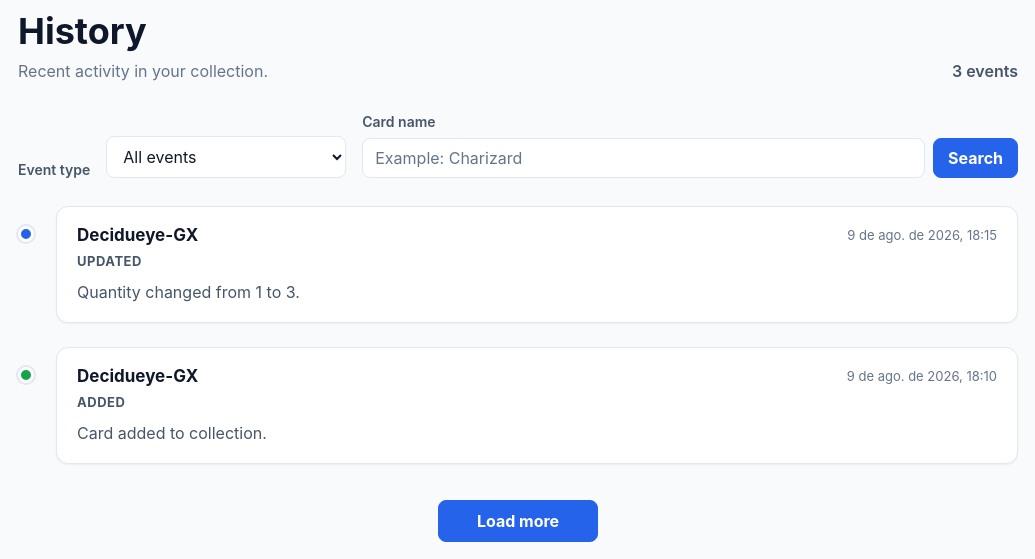
Test: HistoryPage › should show filtered empty state
This screenshot has width=1035, height=559.
Expected: the text "Card added to collection." is shown, 77,423 -> 267,443
Type "Mewtwo" into the search field labelled "Card name" at (644, 158), box 362,138 -> 925,178
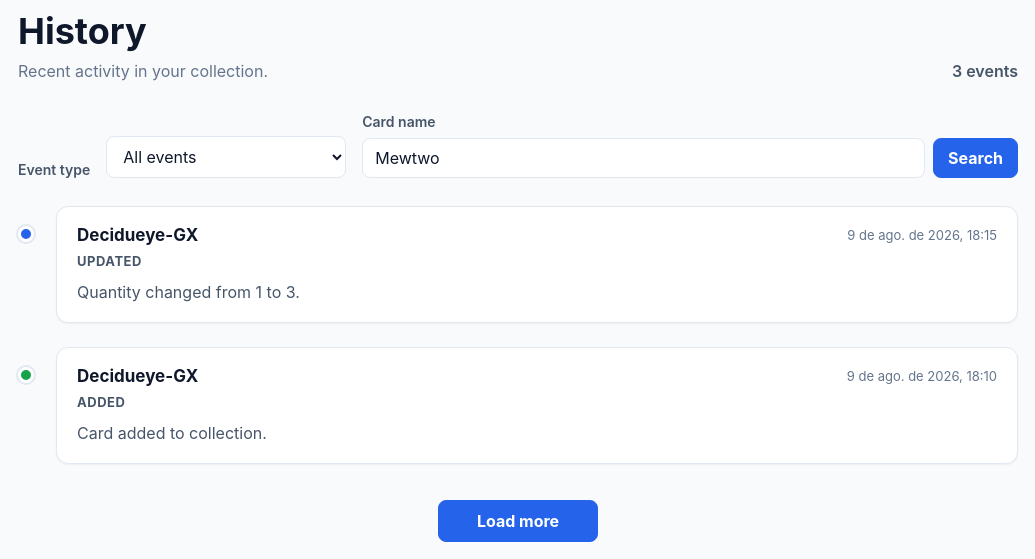
Click the button "Search" at (976, 158), box 933,138 -> 1018,178
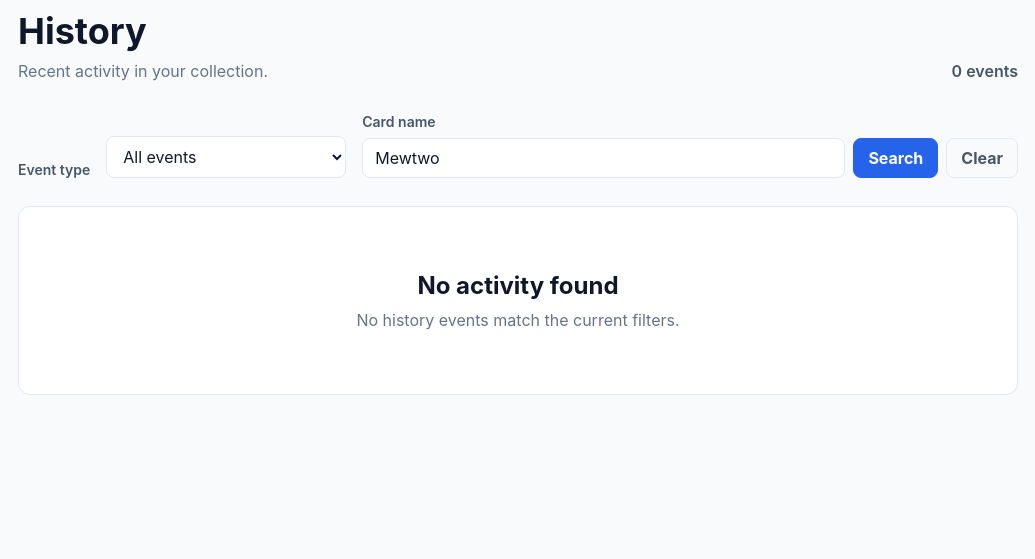
Expected: the heading "No activity found" is shown, 417,271 -> 619,300
Expected: the text "No history events match the current filters." is shown, 356,310 -> 680,330
Expected: the text "0 events" is shown, 952,61 -> 1018,81
